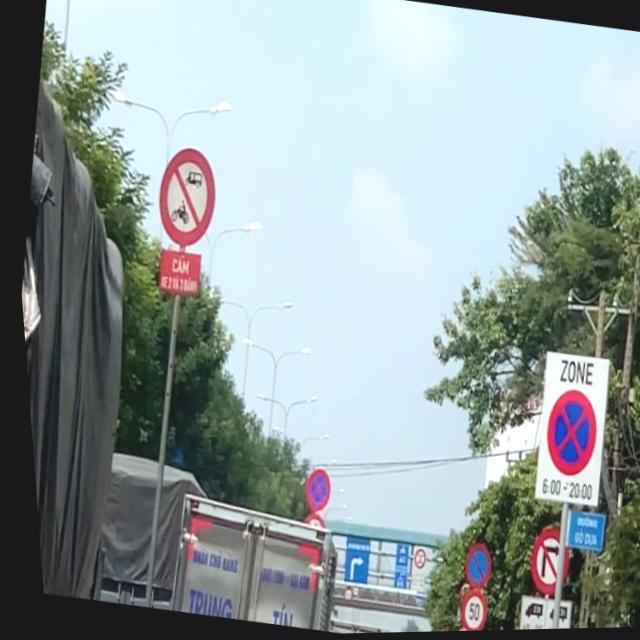Cam do xe: (452, 543, 487, 592)
Cam dung xe va do xe: (531, 388, 599, 483), (295, 468, 327, 514)
Han che chieu cao: (333, 587, 345, 605)
Toc do toi da cho phep: (446, 589, 481, 633)
